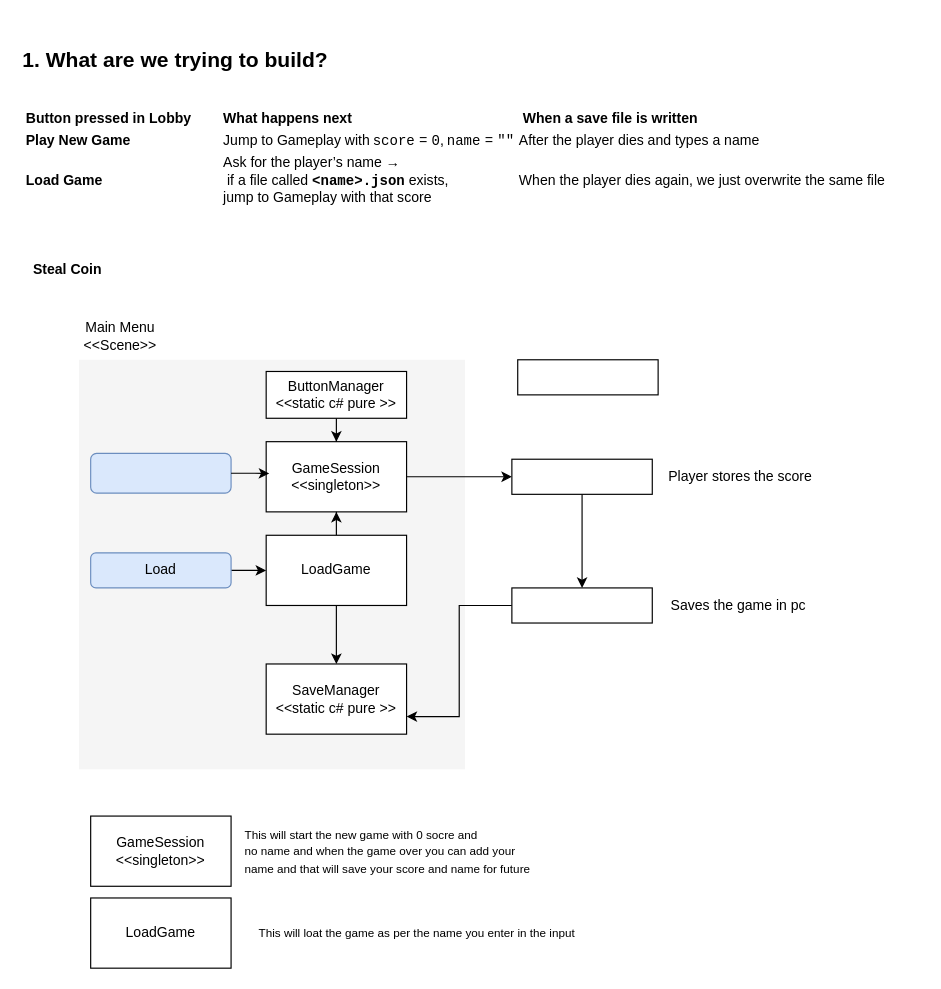
The diagram is 941 pixels wide and 989 high, and some of its shapes have lost their labels. Each missing label, with the centre of its shape:
"CoinManager" belongs at (587,377).
"GamePlaySaver" belongs at (581,605).
"Play" belongs at (160,472).
"Player view" belongs at (581,476).
